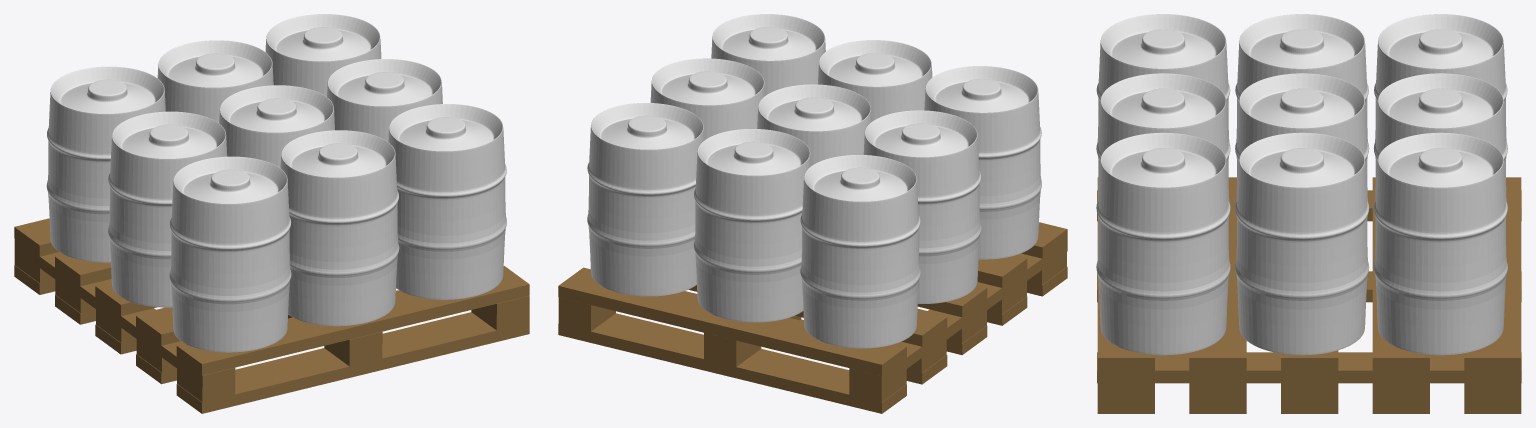
Rendered from Pallets(Barriles).fbx.
3 renders of one model, left to right at view 1: azimuth 30°, elevation 25°; view 2: azimuth 150°, elevation 25°; view 3: azimuth 270°, elevation 25°, orthographic. The views are drawn at different scales.
Parts seen in each view (by area): view 1: Cylinder, Cube.002, Cube, Cube.003, Cube.001; view 2: Cylinder, Cube, Cube.002, Cube.003, Cube.001; view 3: Cylinder, Cube, Cube.001, Cube.003, Cube.002.
Boxes of the visible parts, <box> form: Cylinder: <box>46,14,506,352</box>; Cube.002: <box>14,265,529,413</box>; Cube: <box>14,218,529,375</box>; Cube.003: <box>14,250,529,402</box>; Cube.001: <box>14,239,529,387</box>; Cylinder: <box>587,14,1041,348</box>; Cube: <box>558,222,1067,375</box>; Cube.002: <box>558,267,1067,413</box>; Cube.003: <box>558,252,1066,402</box>; Cube.001: <box>558,240,1067,387</box>; Cylinder: <box>1096,14,1507,355</box>; Cube: <box>1097,177,1521,370</box>; Cube.001: <box>1097,190,1521,383</box>; Cube.003: <box>1097,383,1521,400</box>; Cube.002: <box>1097,401,1521,413</box>.
Size of the model in its own units: 300 by 176 by 299.
